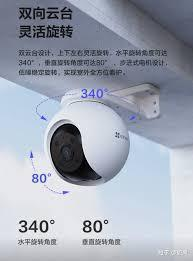maru: (25, 78, 173, 196)
